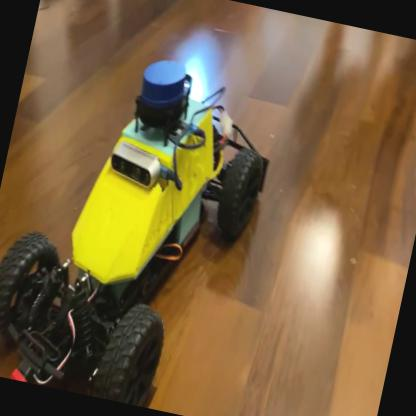mushr_car: (0, 18, 294, 415)
